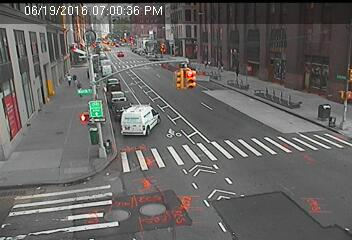neg: (112, 105, 143, 146), (14, 115, 40, 149), (188, 106, 209, 134), (242, 104, 261, 129), (316, 70, 330, 88), (307, 116, 320, 134), (319, 39, 327, 50)
pos: (71, 79, 84, 98), (233, 64, 243, 78), (62, 73, 72, 86)
